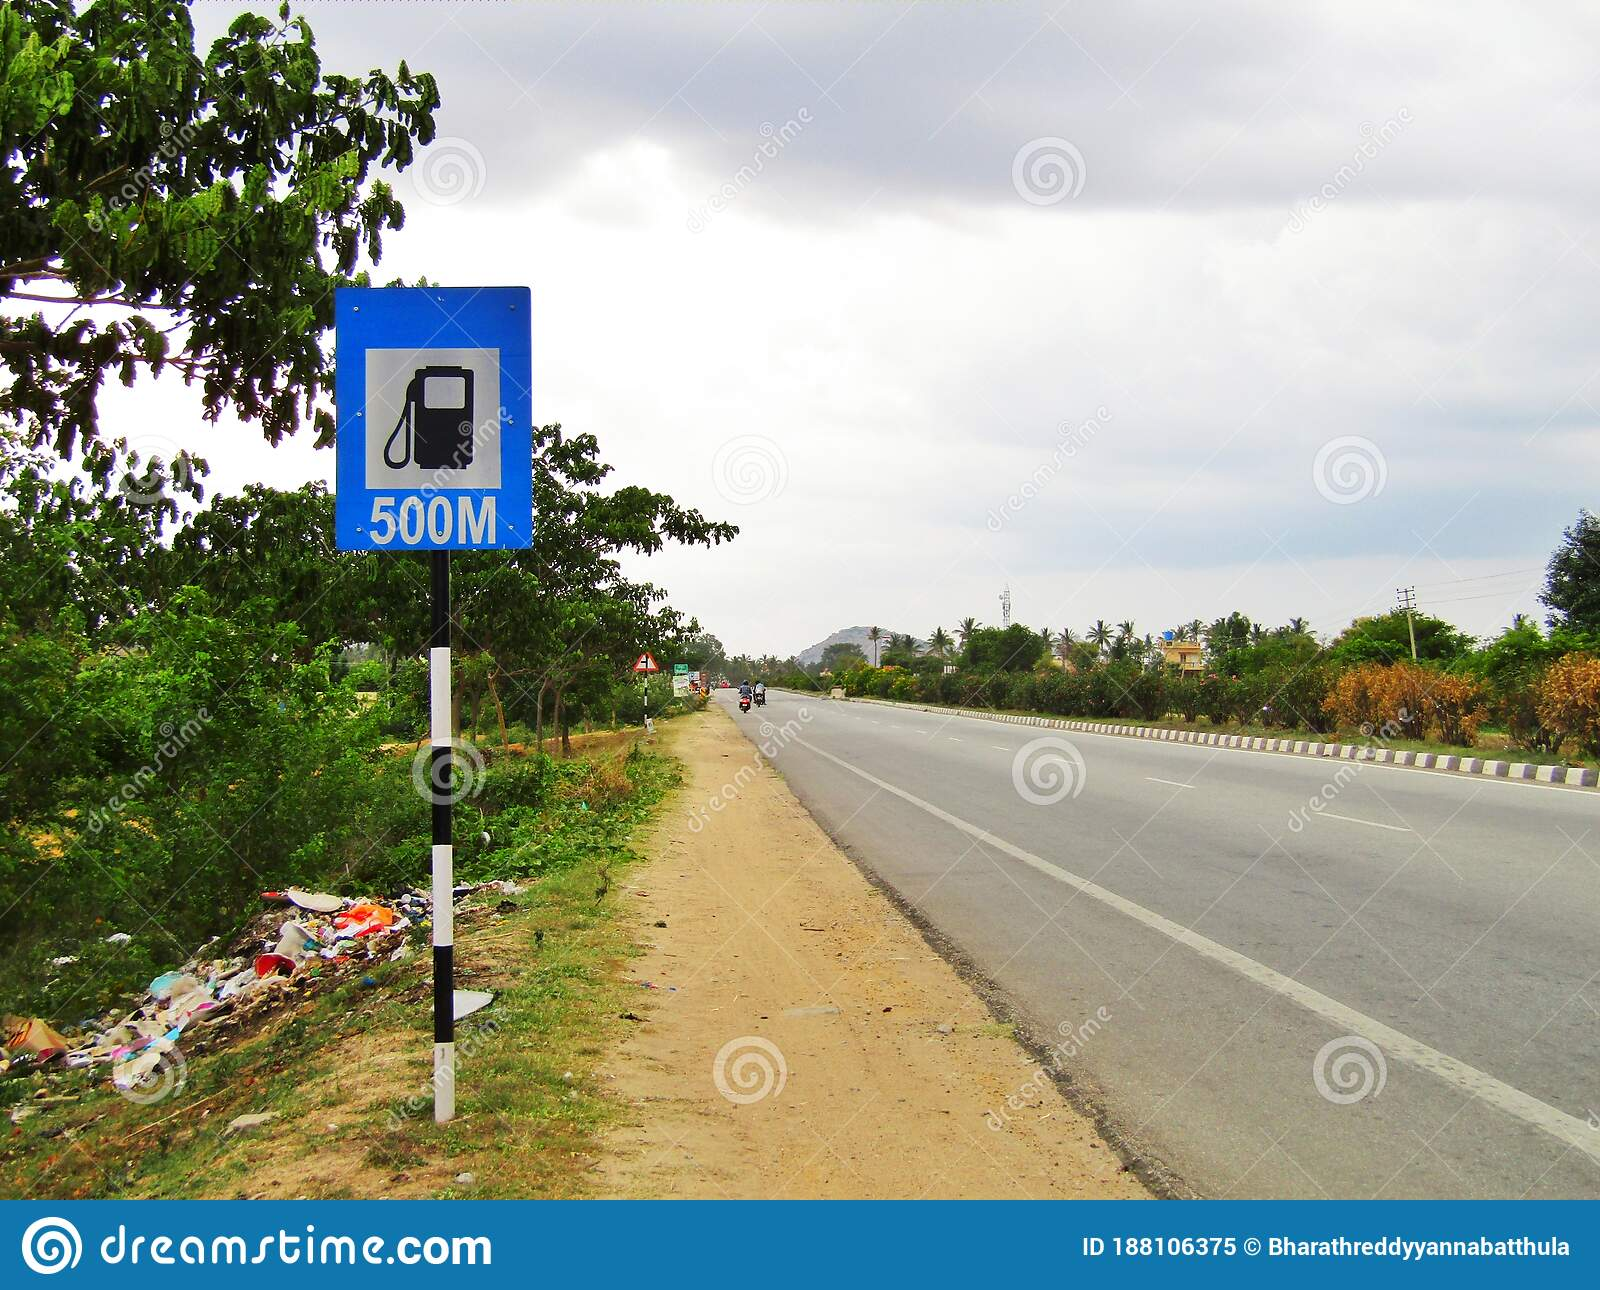fuel-station: (328, 283, 533, 550)
